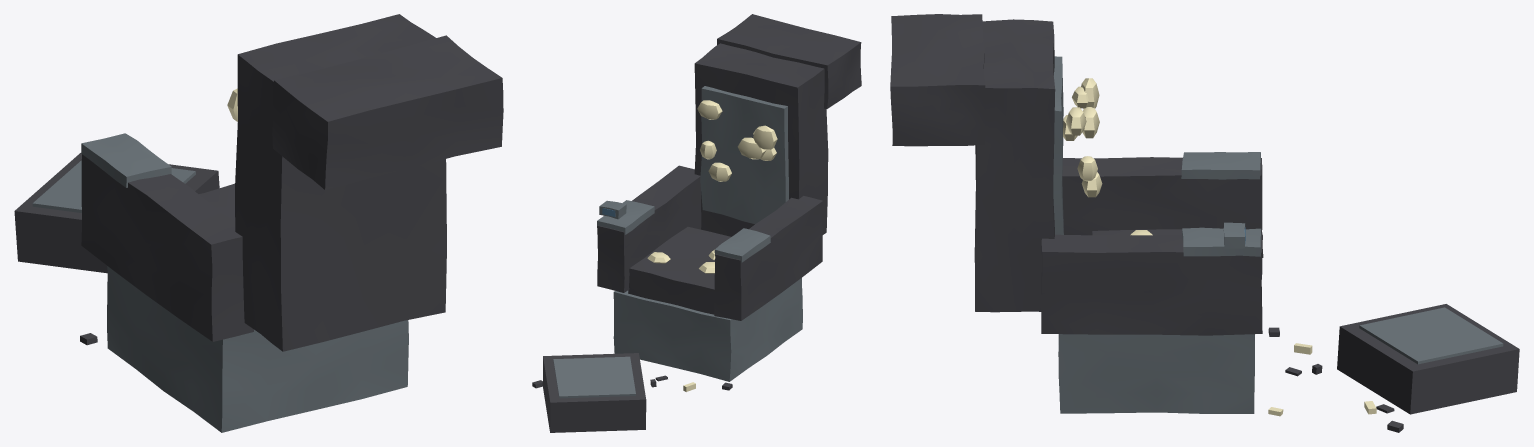
The model's file is massage_chair_broken.fbx.
3 views of the same model, side by side, from view 1: azimuth 30°, elevation 25°; view 2: azimuth 150°, elevation 25°; view 3: azimuth 270°, elevation 25° (orthographic). The views are drawn at different scales.
Parts seen in each view (by area): view 1: massage_chair_broken, massage_chair_broken_debris; view 2: massage_chair_broken, massage_chair_broken_debris; view 3: massage_chair_broken, massage_chair_broken_debris.
Boxes of the visible parts, box(x1,y1,x2,y2) form: massage_chair_broken: box(81, 14, 503, 432); massage_chair_broken_debris: box(14, 153, 219, 345); massage_chair_broken: box(597, 14, 861, 381); massage_chair_broken_debris: box(532, 353, 732, 432); massage_chair_broken: box(890, 14, 1263, 413); massage_chair_broken_debris: box(1268, 304, 1519, 432).
Size of the model in its own units: 95.38 by 139 by 243.
